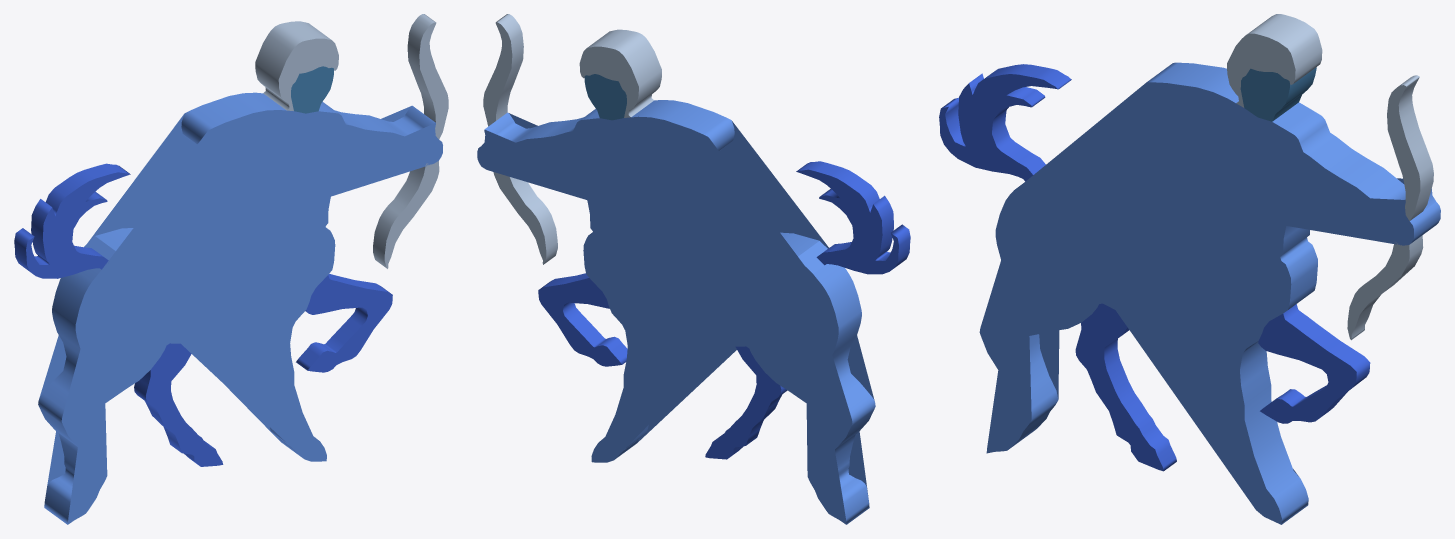
The model's file is sagittarius.obj.
3 renders of one model, left to right at view 1: azimuth 30°, elevation 25°; view 2: azimuth 150°, elevation 25°; view 3: azimuth 330°, elevation 25°, orthographic. The views are drawn at different scales.
Parts seen in each view (by area): view 1: sagittarius; view 2: sagittarius; view 3: sagittarius.
Part boxes in pixels (bbox=[...]): sagittarius: bbox=[14, 14, 448, 524]; sagittarius: bbox=[477, 14, 910, 524]; sagittarius: bbox=[939, 14, 1440, 524].
Size of the model in its own units: 3.02 by 2.91 by 0.2914.
